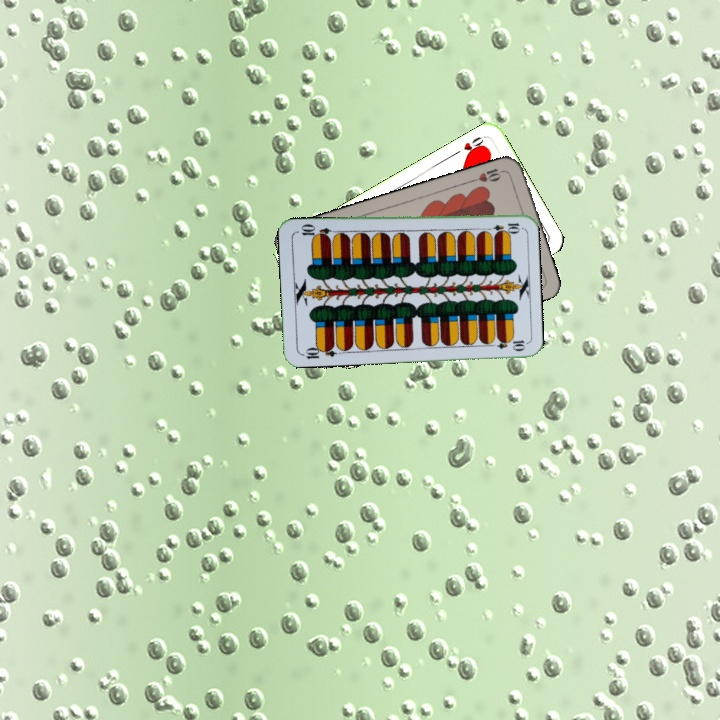E10: (298, 341, 338, 361), (482, 219, 522, 234)
H10: (468, 164, 508, 185)
HO: (450, 133, 487, 159)
